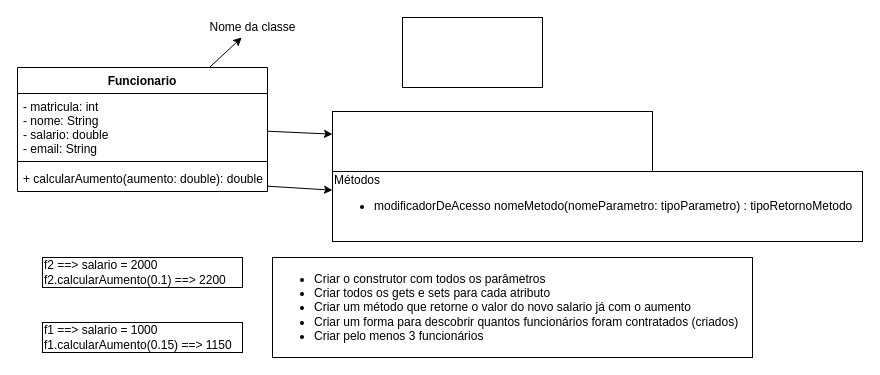
Image size: 880x375. Some labels were removed from this diagram. Here are the shapes that lost their labels. From the top down, the box of each, then its label:
(402, 16, 542, 88): Modificador de acesso - ==> private + ==> public
(332, 110, 652, 172): Variaveis modificadorDeAcesso nomeVariavel: tipoVariavel
